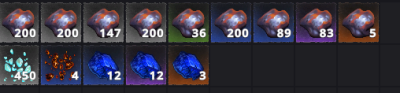chaos ember: (41, 46, 79, 83)
ethereal dust: (1, 45, 37, 82)
iron ore: (295, 3, 336, 41), (254, 2, 293, 41), (339, 2, 378, 41), (211, 2, 250, 40), (1, 2, 38, 42), (127, 3, 165, 41), (84, 4, 123, 41), (169, 3, 208, 40), (42, 3, 80, 40)
sapphire gem: (84, 46, 123, 83), (169, 46, 207, 83), (127, 45, 164, 82)
